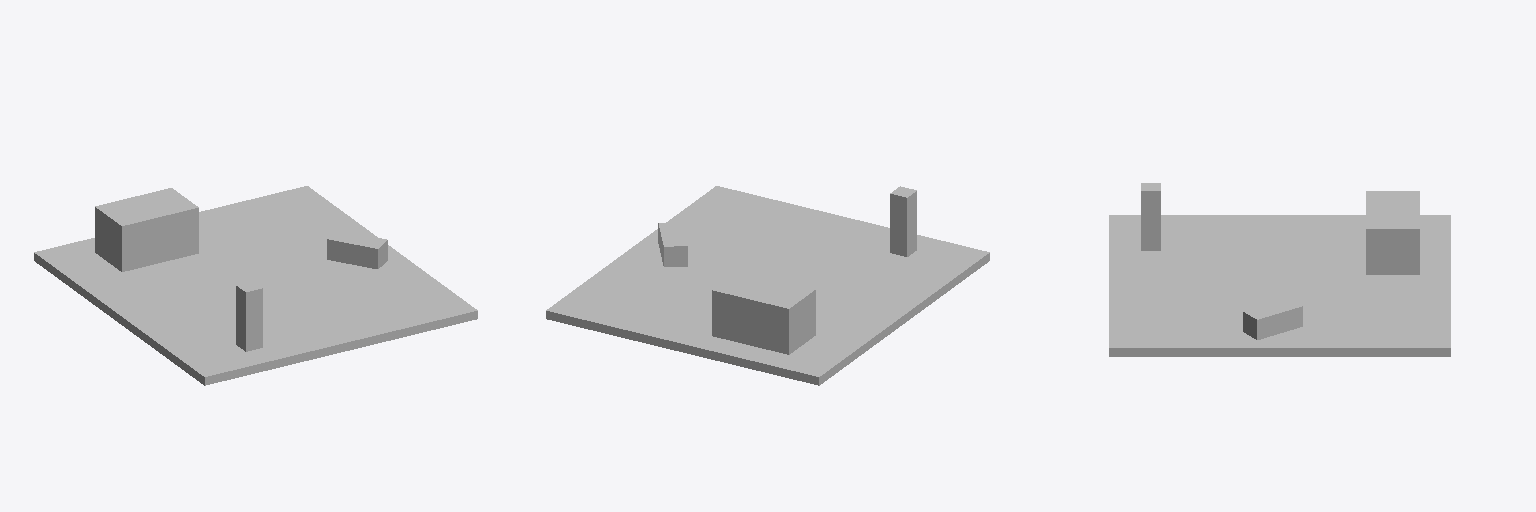
File: platform.obj
The picture shows the model from 3 angles: view 1: azimuth 30°, elevation 25°; view 2: azimuth 150°, elevation 25°; view 3: azimuth 270°, elevation 25°; orthographic projection.
Visible parts, largest first — view 1: Cube_Cube.001; view 2: Cube_Cube.001; view 3: Cube_Cube.001.
Boxes of the visible parts, <box> form: Cube_Cube.001: <box>34,186,477,385</box>; Cube_Cube.001: <box>546,186,989,385</box>; Cube_Cube.001: <box>1109,183,1450,356</box>.
Size of the model in its own units: 12.34 by 2.93 by 13.34.